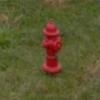a fire hydrant: (42, 20, 62, 74)
